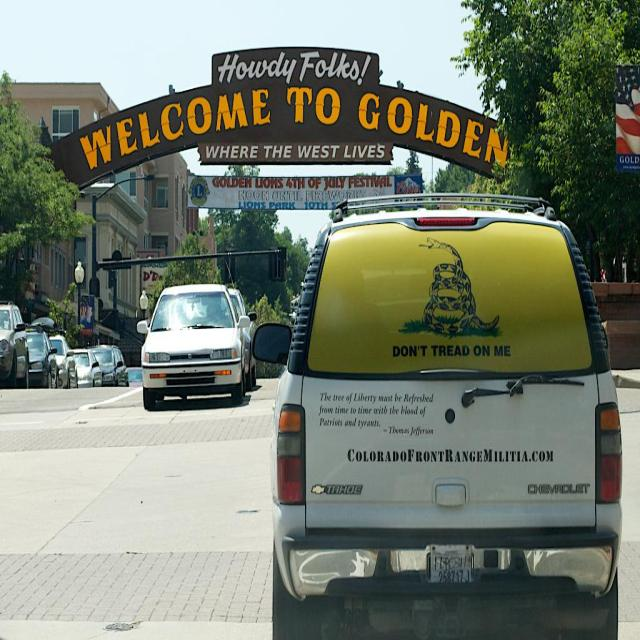car: (136, 283, 250, 409)
